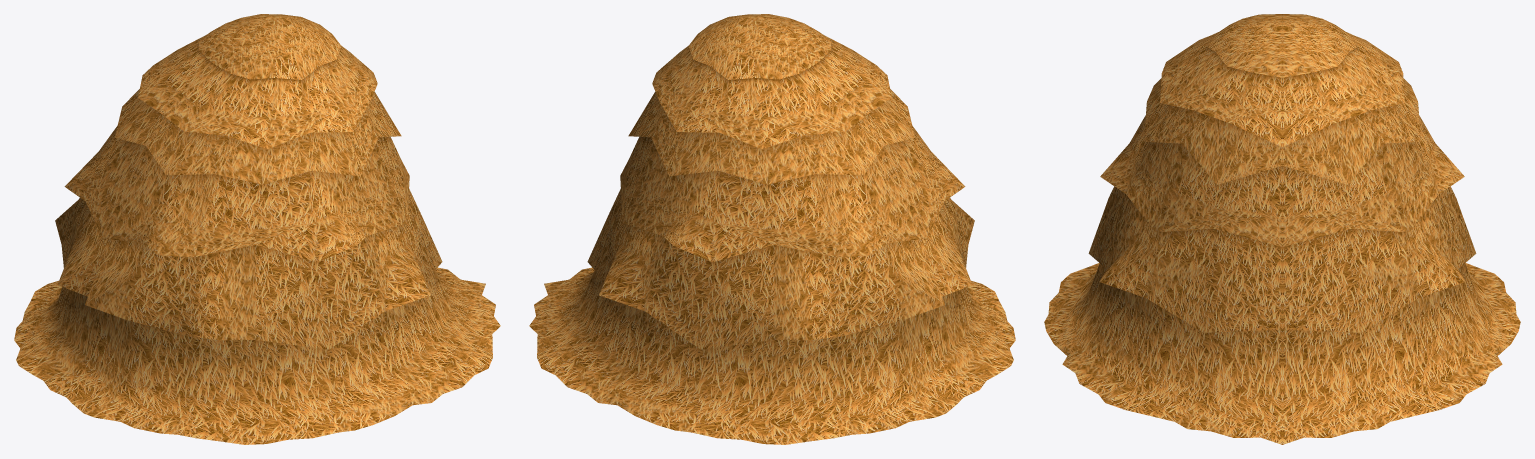
Rendered from HayStack03.FBX.
3 views of the same model, side by side, from view 1: azimuth 30°, elevation 25°; view 2: azimuth 150°, elevation 25°; view 3: azimuth 270°, elevation 25° (orthographic).
Visible parts, largest first — view 1: HayStack03; view 2: HayStack03; view 3: HayStack03.
Boxes of the visible parts, box(x1,y1,x2,y2) form: HayStack03: box(14, 14, 500, 444); HayStack03: box(529, 14, 1015, 444); HayStack03: box(1044, 14, 1520, 444).
Size of what is drawn, in the model's own units: 2.59 by 1.8 by 2.42.
